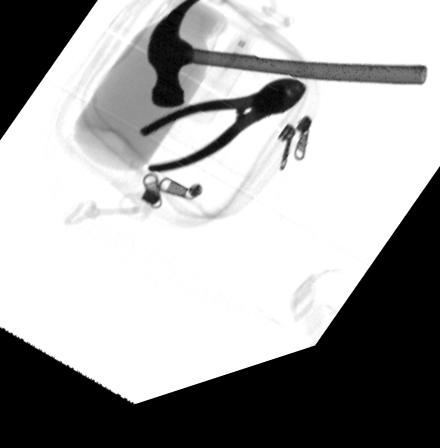Hammer: (147, 7, 428, 119)
Pliers: (141, 97, 307, 183)
